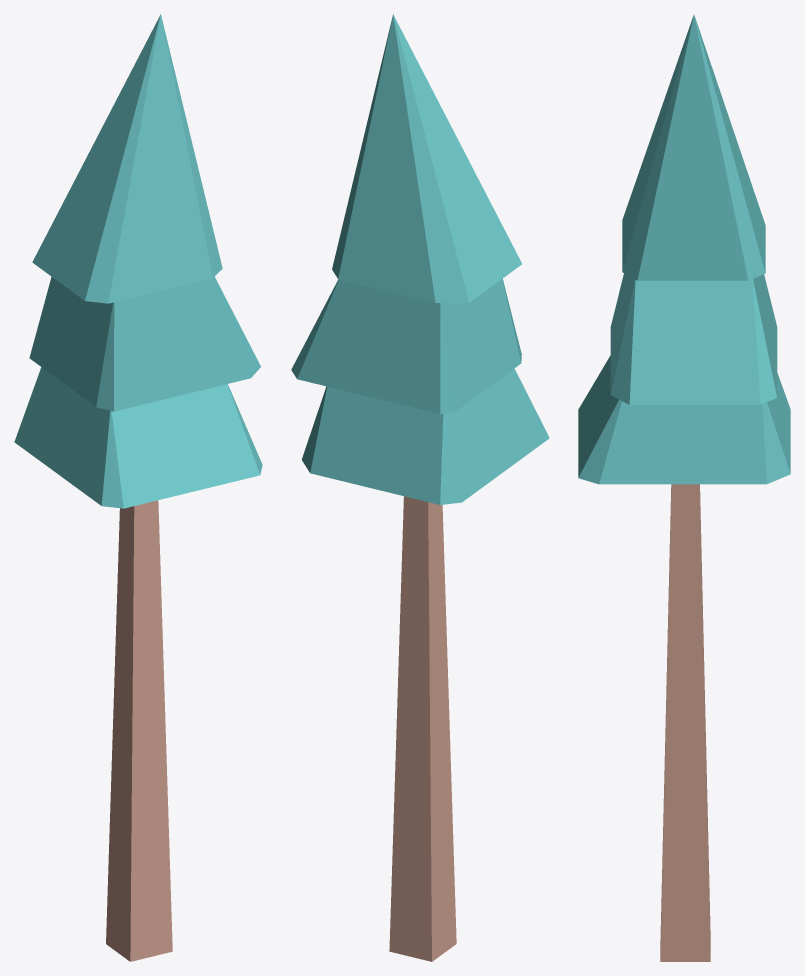
File: tree_pineTallB.glb
3 renders of one model, left to right at view 1: azimuth 30°, elevation 25°; view 2: azimuth 150°, elevation 25°; view 3: azimuth 270°, elevation 25°, orthographic. The views are drawn at different scales.
Parts seen in each view (by area): view 1: tree_pineTallB; view 2: tree_pineTallB; view 3: tree_pineTallB.
Part boxes in pixels (bbox=[...]): tree_pineTallB: bbox=[14, 14, 262, 961]; tree_pineTallB: bbox=[291, 14, 549, 961]; tree_pineTallB: bbox=[578, 14, 790, 961].
Bounding box in the file's own units: 0.3863 × 1.93 × 0.392.
